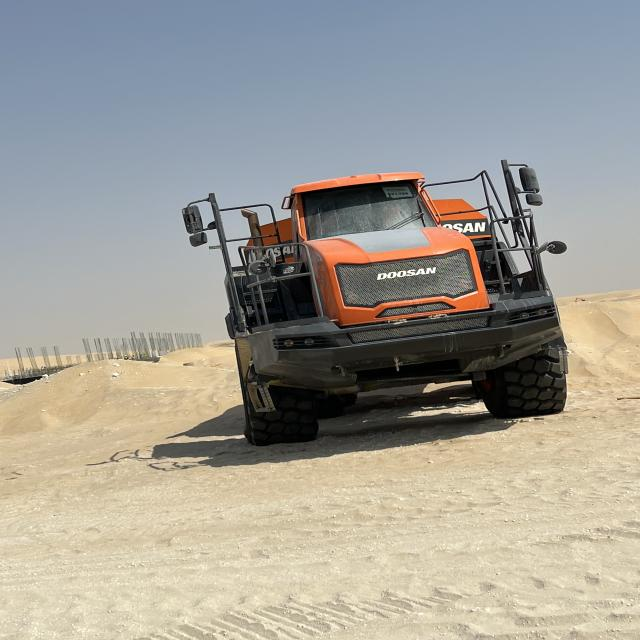dump_truck: (180, 148, 568, 453)
